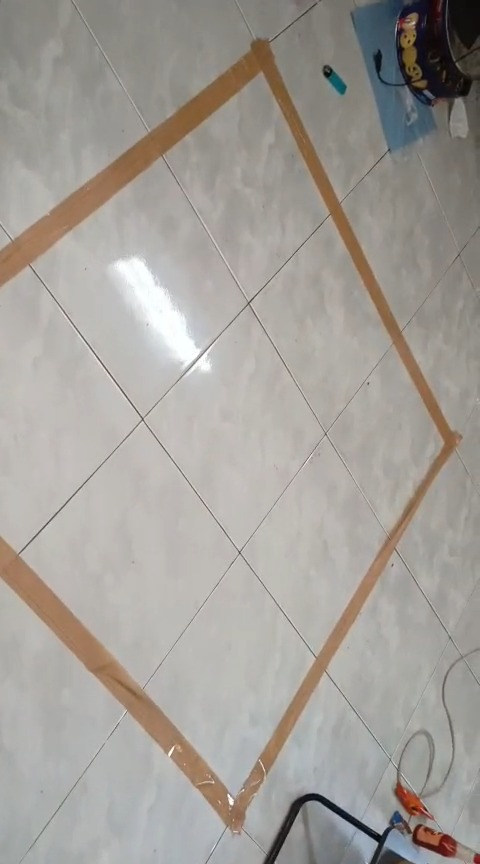floor marking: (0, 40, 460, 830)
